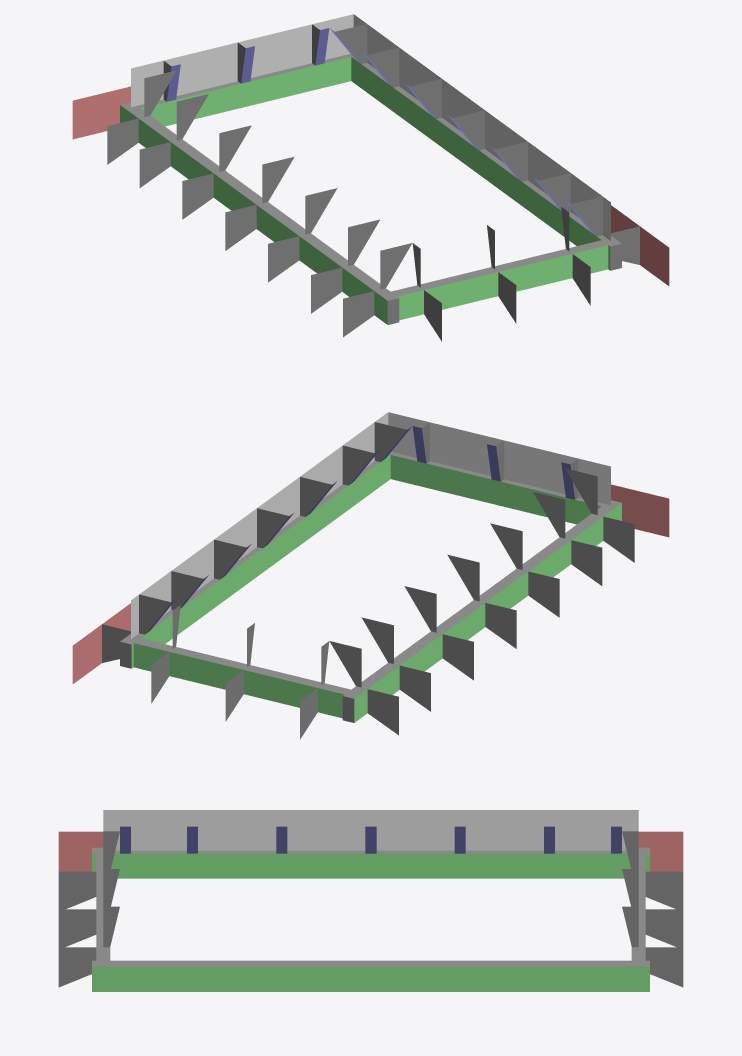
Rendered from SSQ_dungeon_S__SSQ_Room01_Top.gltf.
The picture shows the model from 3 angles, top to bottom: view 1: azimuth 30°, elevation 25°; view 2: azimuth 150°, elevation 25°; view 3: azimuth 270°, elevation 25°; orthographic projection. The views are drawn at different scales.
Parts seen in each view (by area): view 1: SSQ_Room01_Top; view 2: SSQ_Room01_Top; view 3: SSQ_Room01_Top.
Part boxes in pixels (x1,y1,x2,y2): SSQ_Room01_Top: (72,14,669,341); SSQ_Room01_Top: (72,412,669,739); SSQ_Room01_Top: (58,810,683,991).
Bounding box in the file's own units: 12.8 × 2.56 × 20.48.
